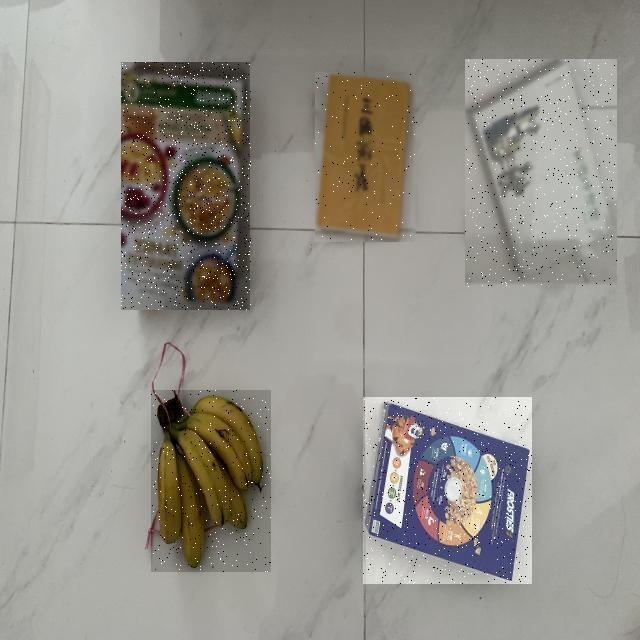Banana: (151, 390, 271, 572)
Book: (465, 60, 617, 288), (316, 72, 418, 242)
Cereal: (122, 62, 252, 310), (363, 397, 532, 584)
